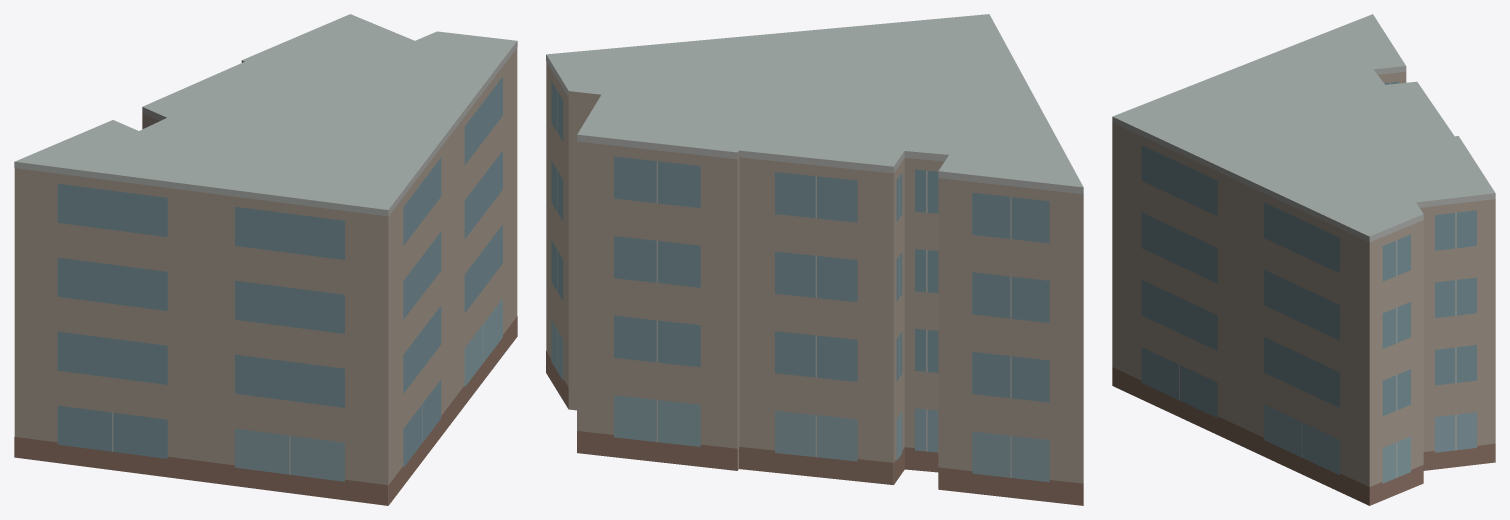
File: survey-upis-32948743.glb
3 views of the same model, side by side, from view 1: azimuth 30°, elevation 25°; view 2: azimuth 150°, elevation 25°; view 3: azimuth 270°, elevation 25° (orthographic). The views are drawn at different scales.
Parts seen in each view (by area): view 1: survey-upis-32948743.tmp; view 2: survey-upis-32948743.tmp; view 3: survey-upis-32948743.tmp.
Part boxes in pixels (x1,y1,x2,y2): survey-upis-32948743.tmp: [14, 14, 517, 505]; survey-upis-32948743.tmp: [546, 14, 1083, 505]; survey-upis-32948743.tmp: [1112, 14, 1495, 505].
Size of the model in its own units: 20.05 by 11.3 by 14.59.
